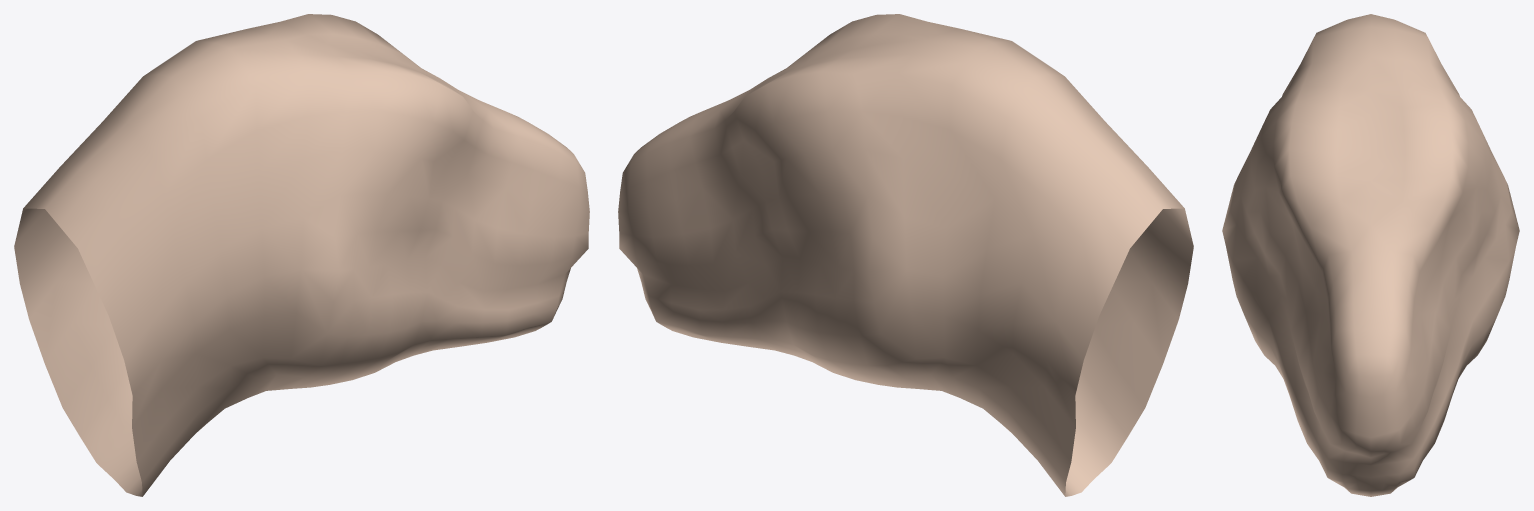
The model's file is creature2.fbx.
The picture shows the model from 3 angles, left to right: view 1: azimuth 30°, elevation 25°; view 2: azimuth 150°, elevation 25°; view 3: azimuth 270°, elevation 25°; orthographic projection. The views are drawn at different scales.
Parts seen in each view (by area): view 1: TRex_tRex; view 2: TRex_tRex; view 3: TRex_tRex.
Boxes of the visible parts, x1,y1,x2,y2 form: TRex_tRex: (14, 14, 589, 496); TRex_tRex: (618, 14, 1193, 496); TRex_tRex: (1222, 14, 1519, 496).
Size of the model in its own units: 51.28 by 38.19 by 25.92.
